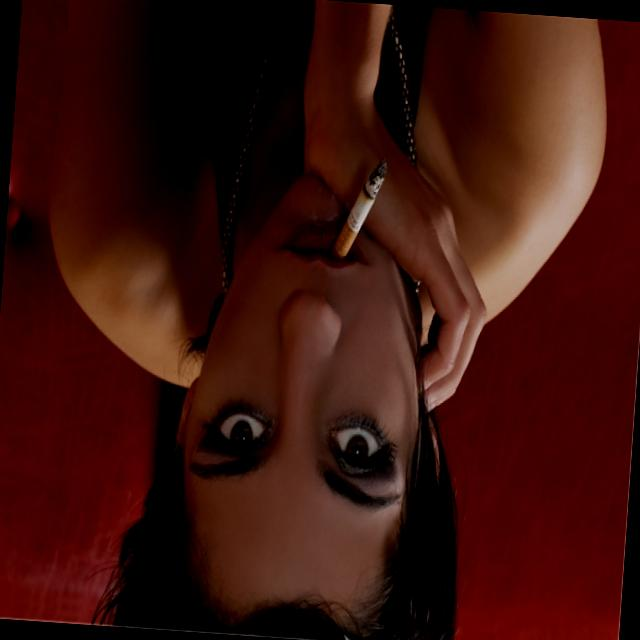cigarette: (324, 154, 394, 266)
